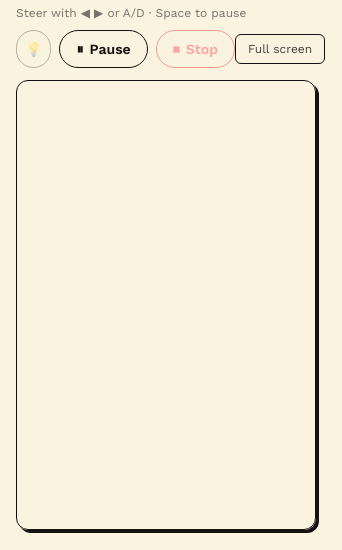
LaneRush › pauses the scene and shows a resume overlay, then resumes on click
This screenshot has width=342, height=550.
Click the button labelled "⏸ Pause". click: (104, 49)
box: [60,30,148,68]
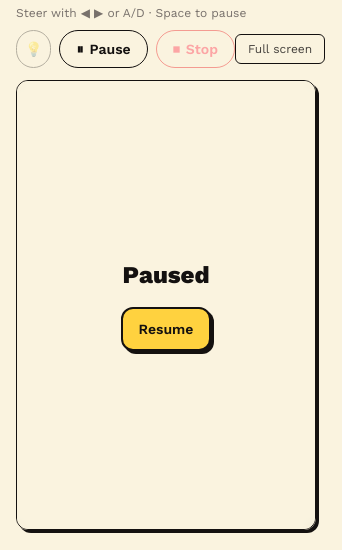
Result: the text "Paused" is shown at [122,259,210,291]
Click the button "Resume". click: (166, 329)
box: [120,307,211,351]
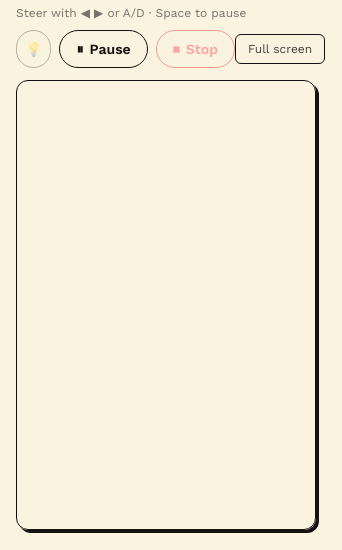
Result: the text "Paused" is gone
